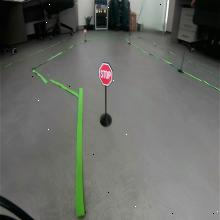stop: (98, 62, 114, 86)
